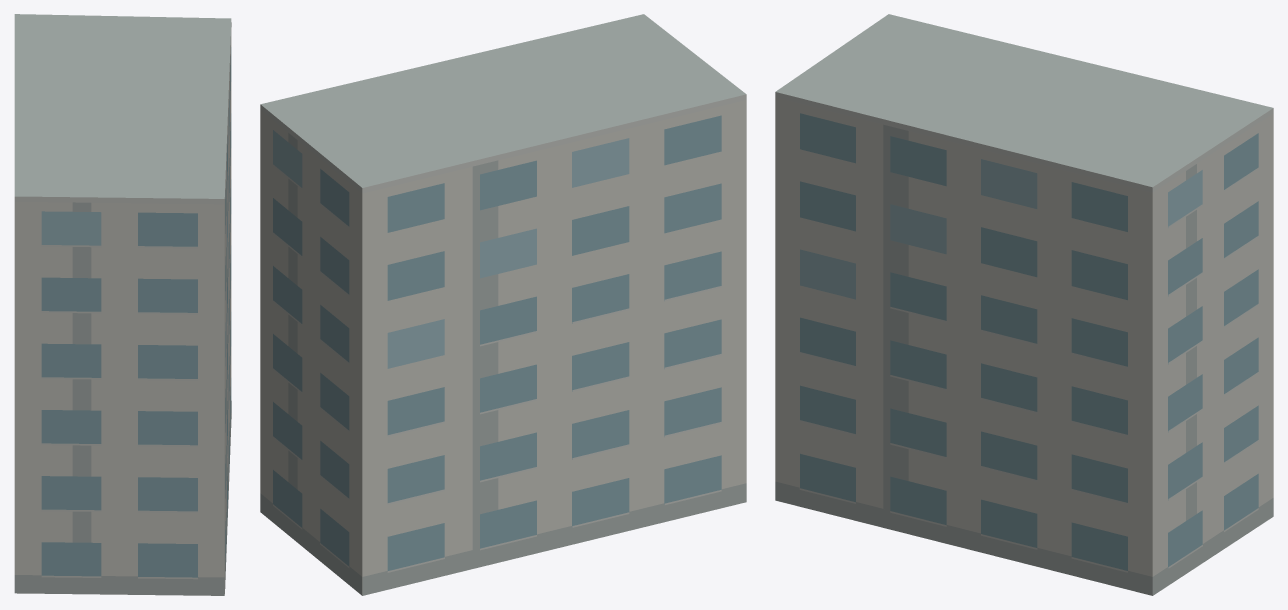
File: survey-upis-32641829.glb
3 views of the same model, side by side, from view 1: azimuth 30°, elevation 25°; view 2: azimuth 150°, elevation 25°; view 3: azimuth 270°, elevation 25° (orthographic). The views are drawn at different scales.
Parts seen in each view (by area): view 1: survey-upis-32641829.tmp; view 2: survey-upis-32641829.tmp; view 3: survey-upis-32641829.tmp.
Part boxes in pixels (box(x1,y1,x2,y2)): survey-upis-32641829.tmp: box(14, 14, 231, 595); survey-upis-32641829.tmp: box(260, 14, 746, 595); survey-upis-32641829.tmp: box(775, 14, 1273, 595).
Bounding box in the file's own units: 16.65 × 18.3 × 20.24.
